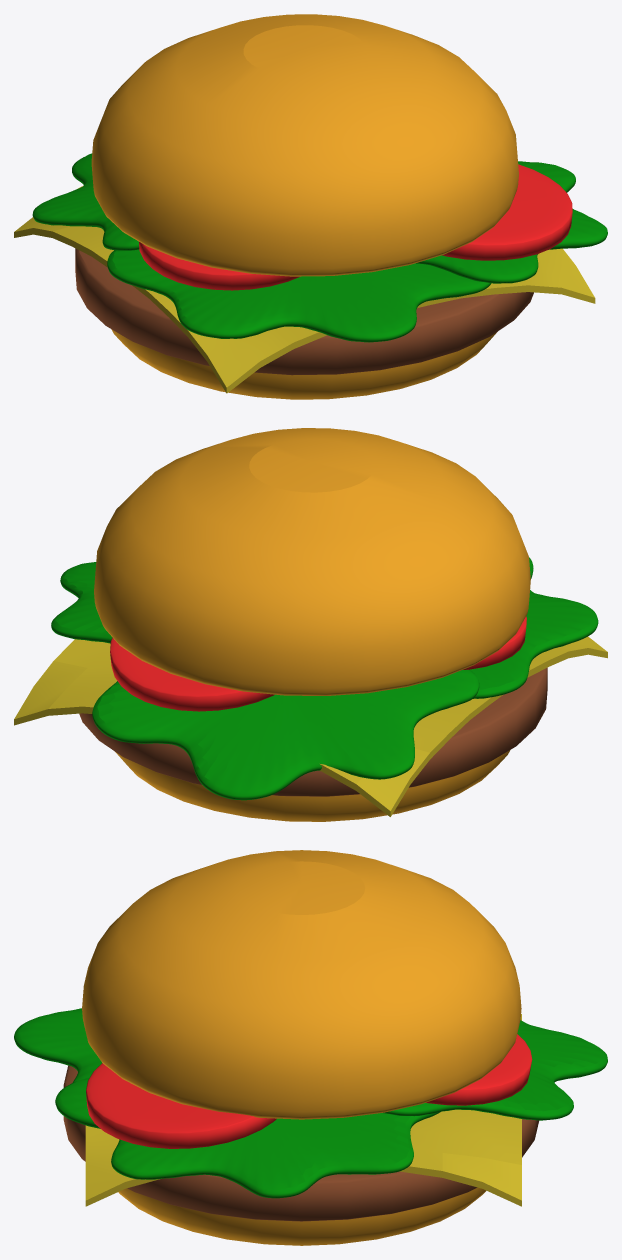
Rendered from Comida_VR03.fbx.
The picture shows the model from 3 angles, top to bottom: view 1: azimuth 30°, elevation 25°; view 2: azimuth 150°, elevation 25°; view 3: azimuth 270°, elevation 25°; orthographic projection. The views are drawn at different scales.
Parts seen in each view (by area): view 1: Hamburguesa; view 2: Hamburguesa; view 3: Hamburguesa.
Boxes of the visible parts, bbox=[...] form: Hamburguesa: bbox=[14, 14, 607, 399]; Hamburguesa: bbox=[14, 428, 607, 821]; Hamburguesa: bbox=[14, 850, 607, 1245].
Size of the model in its own units: 246 by 151 by 272.
